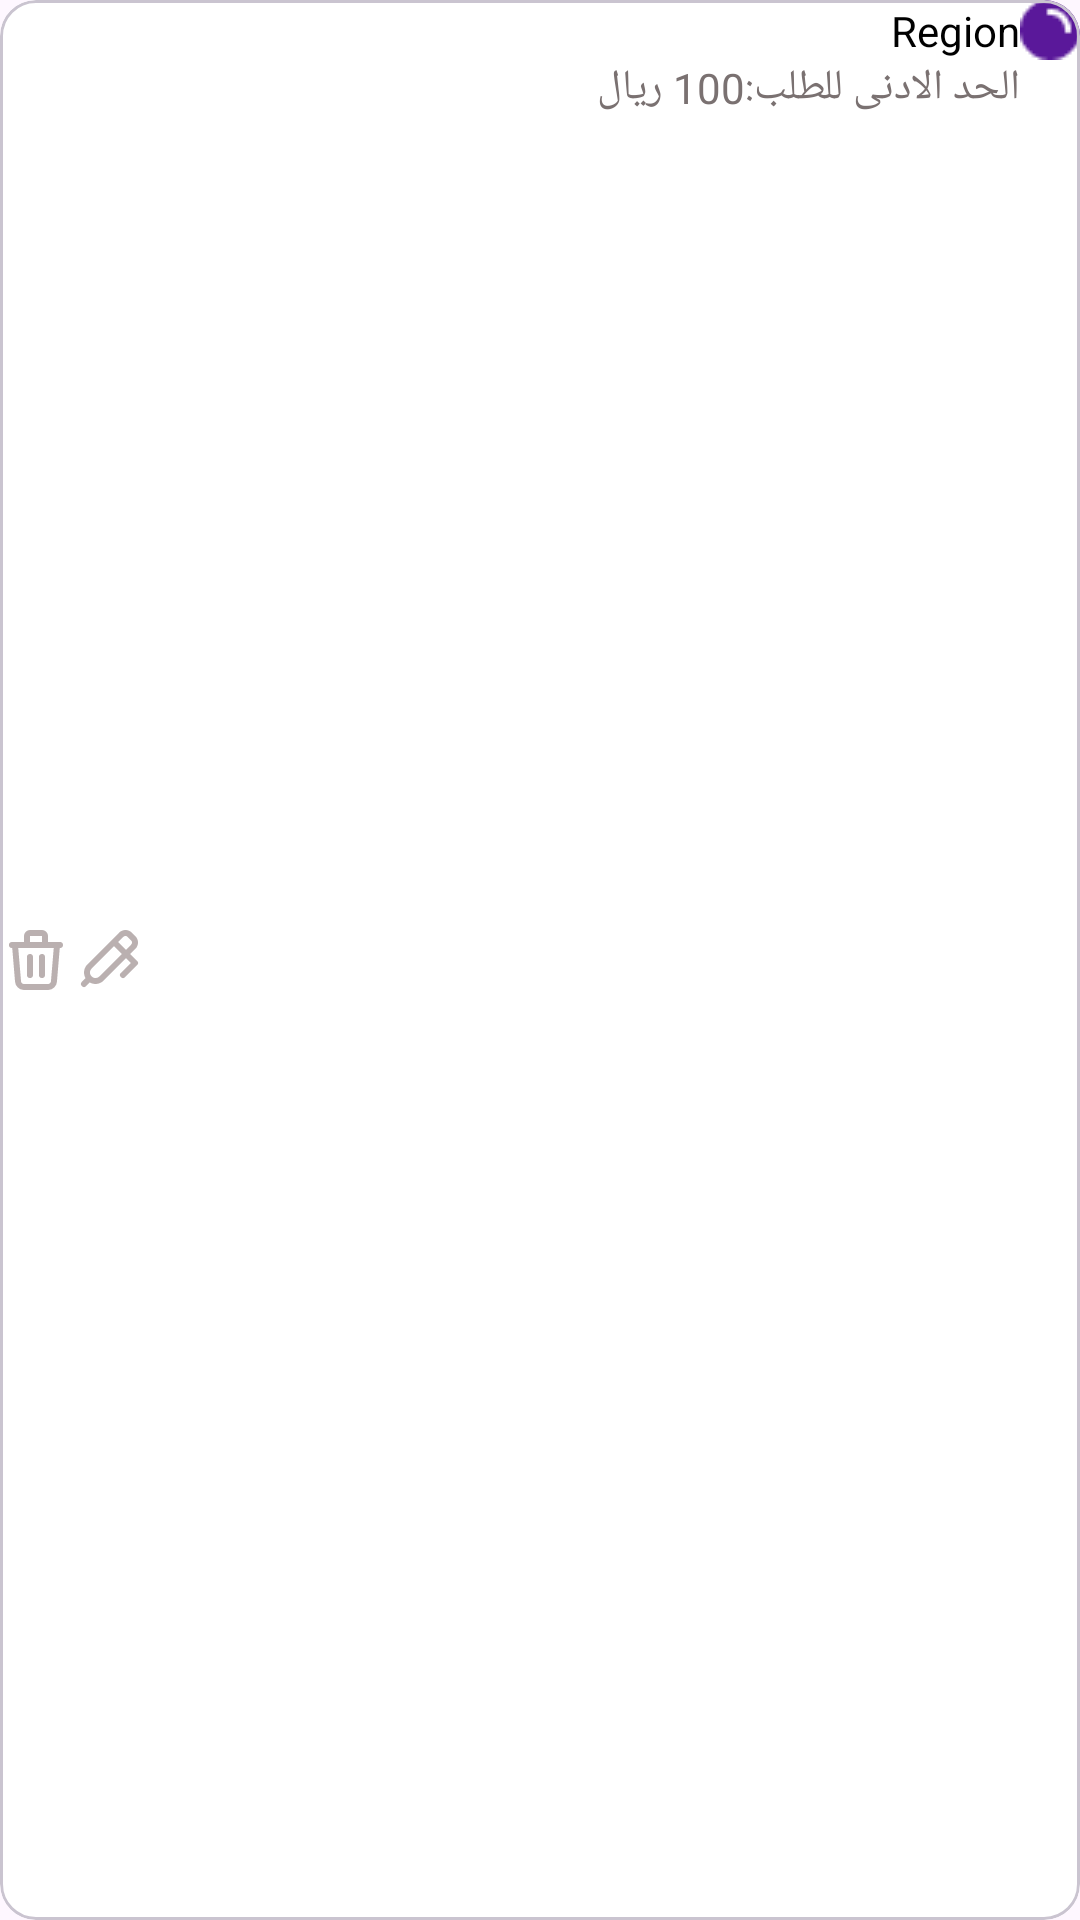

Where icons sit on this 1080px x 1920px app screen, as (x1,y1,x2,y2):
delete: (9,930,63,990)
edit: (81,930,138,987)
